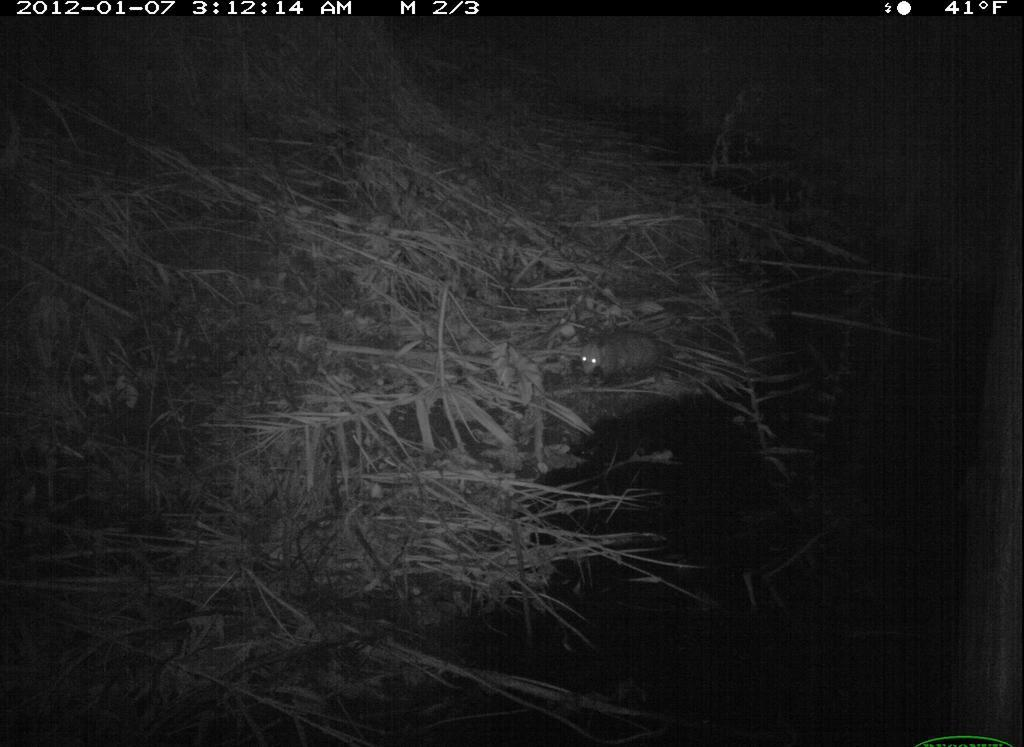opossum: (562, 323, 698, 395)
